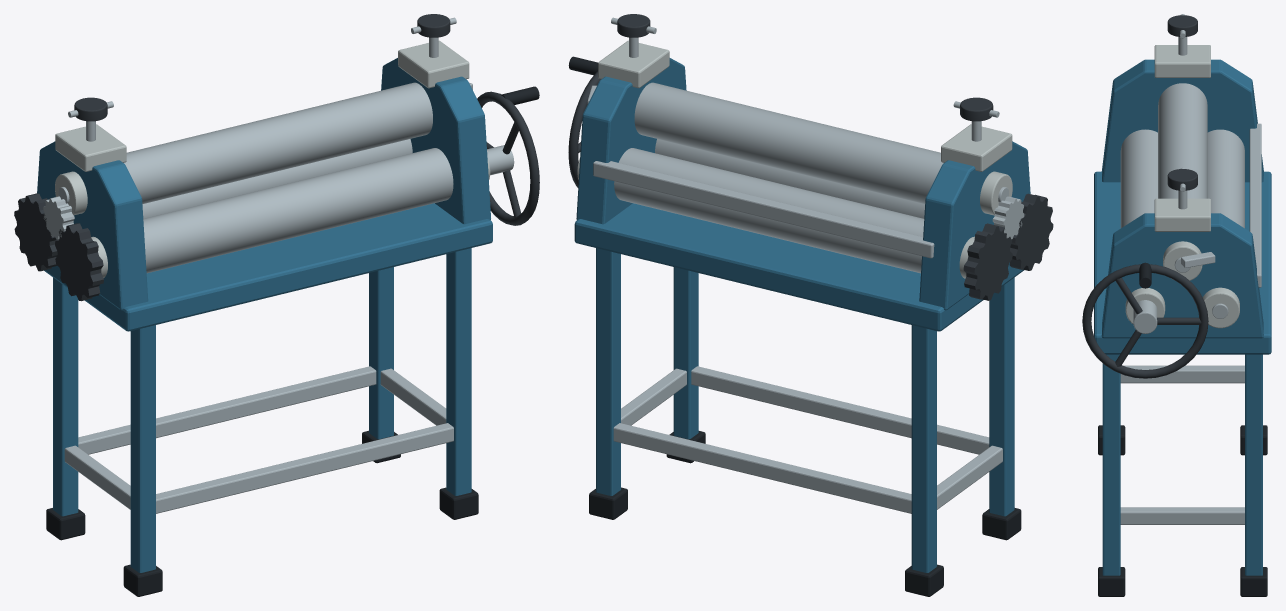
Rendered from city-three-roll-slip-roller.glb.
3 renders of one model, left to right at view 1: azimuth 30°, elevation 25°; view 2: azimuth 150°, elevation 25°; view 3: azimuth 270°, elevation 25°, orthographic. The views are drawn at different scales.
Visible parts, largest first — view 1: Assembly | Deep blue service paint, Assembly | Brushed exposed steel, Assembly | Dark mechanism trim, Assembly | Powder-coated light service metal, Assembly | Rubber feet and hoses; view 2: Assembly | Deep blue service paint, Assembly | Brushed exposed steel, Assembly | Dark mechanism trim, Assembly | Powder-coated light service metal, Assembly | Rubber feet and hoses; view 3: Assembly | Deep blue service paint, Assembly | Brushed exposed steel, Assembly | Powder-coated light service metal, Assembly | Dark mechanism trim, Assembly | Rubber feet and hoses.
Part boxes in pixels (bbox=[...]): Assembly | Deep blue service paint: bbox=[37, 58, 492, 572]; Assembly | Brushed exposed steel: bbox=[43, 17, 514, 513]; Assembly | Dark mechanism trim: bbox=[14, 14, 539, 301]; Assembly | Powder-coated light service metal: bbox=[55, 40, 490, 277]; Assembly | Rubber feet and hoses: bbox=[46, 86, 539, 596]; Assembly | Deep blue service paint: bbox=[574, 58, 1030, 572]; Assembly | Brushed exposed steel: bbox=[587, 17, 1024, 513]; Assembly | Dark mechanism trim: bbox=[568, 14, 1053, 300]; Assembly | Powder-coated light service metal: bbox=[577, 40, 1012, 278]; Assembly | Rubber feet and hoses: bbox=[568, 56, 1021, 596]; Assembly | Deep blue service paint: bbox=[1094, 59, 1271, 575]; Assembly | Brushed exposed steel: bbox=[1120, 14, 1261, 524]; Assembly | Powder-coated light service metal: bbox=[1125, 45, 1239, 328]; Assembly | Dark mechanism trim: bbox=[1082, 15, 1208, 378]; Assembly | Rubber feet and hoses: bbox=[1098, 262, 1267, 596].
Size of the model in its own units: 1.51 by 1.43 by 0.582.
